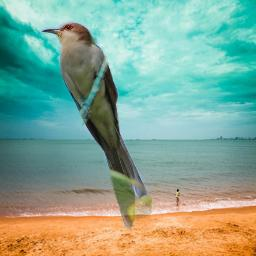Cuckoo: (41, 21, 152, 230)
